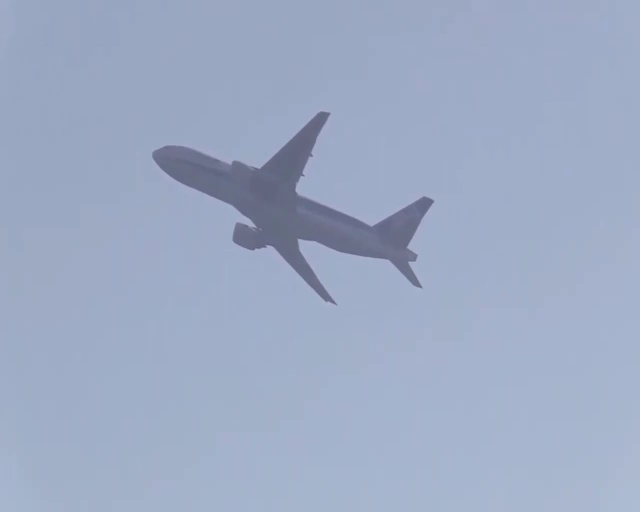AIRPLANE: (151, 110, 434, 305)
